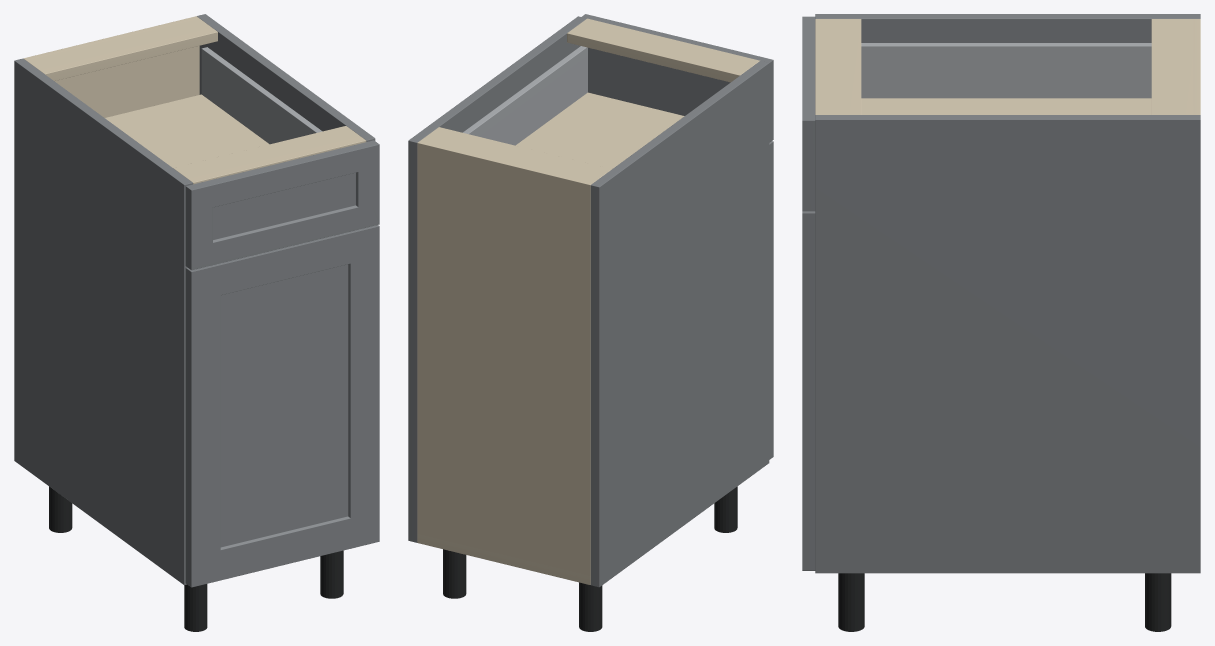
Rendered from oppein-ply-gss-b15.glb.
The picture shows the model from 3 angles, left to right: view 1: azimuth 30°, elevation 25°; view 2: azimuth 150°, elevation 25°; view 3: azimuth 270°, elevation 25°; orthographic projection. The views are drawn at different scales.
Visible parts, largest first — view 1: Cabinet side, Door, Drawer front, Cabinet back, Drawer floor, Drawer side.001, Top support rail, Cabinet side.001, Top support rail.001, Adjustable foot.001, Adjustable foot.003, Adjustable foot; view 2: Cabinet side, Cabinet back, Cabinet side.001, Drawer floor, Drawer front, Drawer side.001, Top support rail.001, Top support rail, Cabinet bottom, Door, Adjustable foot, Adjustable foot.002 (+1 smaller); view 3: Cabinet side.001, Drawer side, Cabinet side, Door, Drawer floor, Top support rail.001, Top support rail, Drawer front, Adjustable foot.002, Adjustable foot.003, Cabinet back.
Part boxes in pixels (left/top/right/bottom): Cabinet side: left=14, top=58, right=192, bottom=585; Door: left=185, top=225, right=379, bottom=587; Drawer front: left=185, top=140, right=379, bottom=270; Cabinet back: left=23, top=16, right=199, bottom=117; Drawer floor: left=105, top=94, right=269, bottom=167; Drawer side.001: left=201, top=47, right=322, bottom=144; Top support rail: left=26, top=18, right=217, bottom=80; Cabinet side.001: left=197, top=14, right=375, bottom=141; Top support rail.001: left=173, top=126, right=366, bottom=184; Adjustable foot.001: left=184, top=584, right=207, bottom=631; Adjustable foot.003: left=320, top=550, right=343, bottom=598; Adjustable foot: left=49, top=486, right=72, bottom=532; Cabinet side: left=590, top=61, right=769, bottom=587; Cabinet back: left=417, top=140, right=593, bottom=584; Cabinet side.001: left=408, top=16, right=586, bottom=542; Drawer floor: left=516, top=92, right=684, bottom=168; Drawer front: left=582, top=14, right=773, bottom=142; Drawer side.001: left=463, top=46, right=587, bottom=145; Top support rail.001: left=567, top=18, right=759, bottom=82; Top support rail: left=421, top=127, right=611, bottom=183; Cabinet bottom: left=417, top=534, right=590, bottom=584; Door: left=769, top=141, right=773, bottom=459; Adjustable foot: left=579, top=582, right=602, bottom=631; Adjustable foot.002: left=443, top=549, right=466, bottom=598; Cabinet side.001: left=815, top=115, right=1200, bottom=573; Drawer side: left=861, top=43, right=1151, bottom=98; Cabinet side: left=815, top=14, right=1200, bottom=42; Door: left=802, top=211, right=815, bottom=570; Drawer floor: left=861, top=98, right=1151, bottom=114; Top support rail.001: left=815, top=19, right=861, bottom=114; Top support rail: left=1151, top=19, right=1193, bottom=114; Drawer front: left=802, top=16, right=815, bottom=211; Adjustable foot.002: left=1145, top=573, right=1171, bottom=631; Adjustable foot.003: left=838, top=573, right=864, bottom=631; Cabinet back: left=1193, top=19, right=1200, bottom=114.
Size of the model in its own units: 0.381 by 0.8763 by 0.6064.
